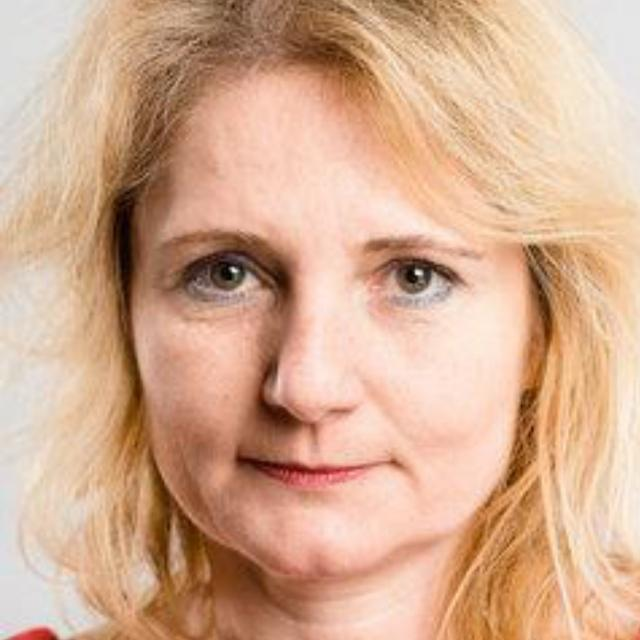Natural: (85, 53, 540, 569)
